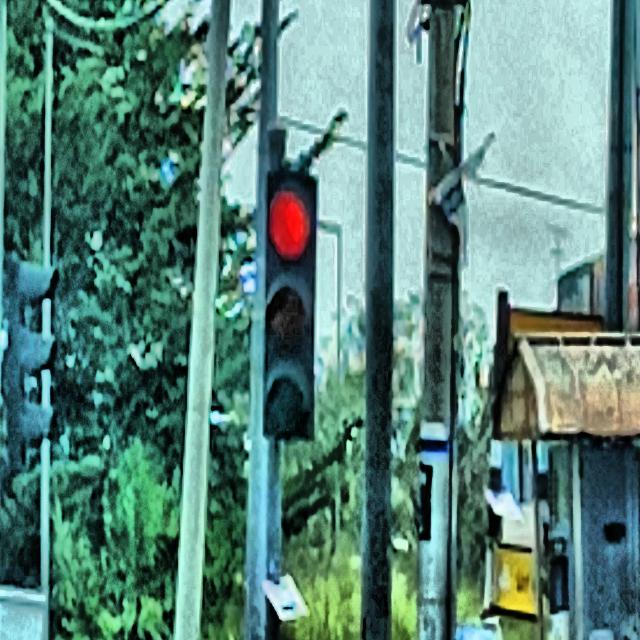red: (263, 172, 319, 442)
